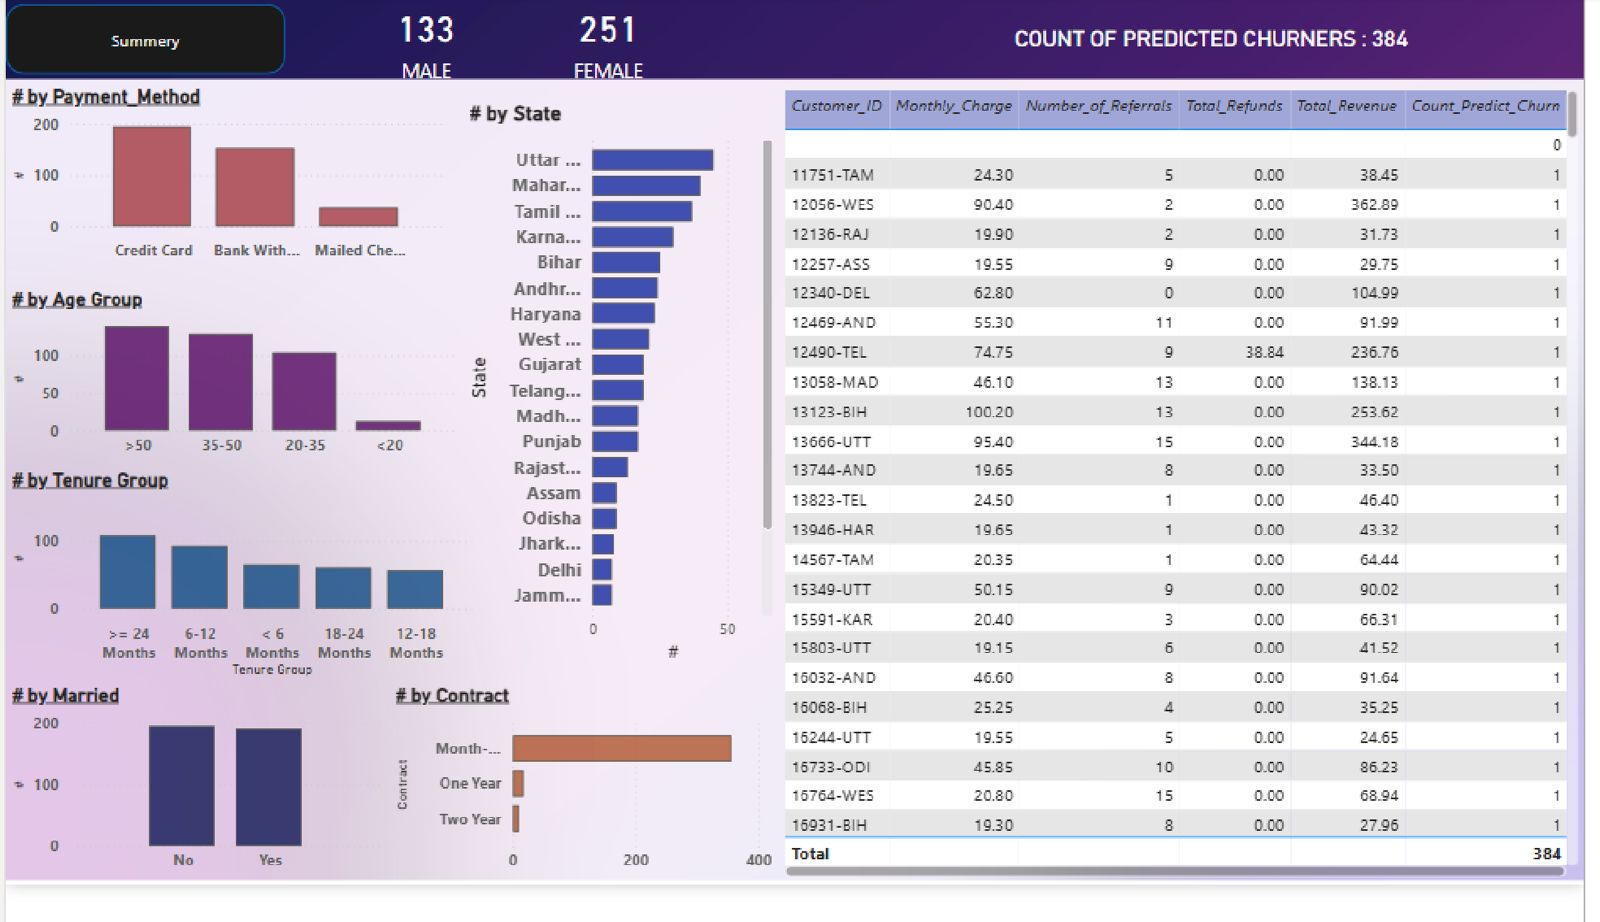

The page's visual inventory and layout, read from the dashboard file:
{"tool":"powerbi","page":{"name":"Prediction","canvas":[1280,720],"ordinal":2},"visuals":[{"type":"tableEx","fields":{"Values":["vw_JoinData (1).Customer_ID","vw_JoinData (1).Monthly_Charge","vw_JoinData (1).Number_of_Referrals","vw_JoinData (1).Total_Refunds","vw_JoinData (1).Total_Revenue","tbl_Measures.Count_Predict_Churn"]},"box":[626.2,72,653.8,647.7],"z":0},{"type":"card","fields":{"Values":["tbl_Measures.Title_Predicted_Churner"]},"box":[757.9,12.2,441,44.4],"z":1000},{"type":"card","fields":{"Values":["tbl_Measures.Count_Predict_Churn"]},"box":[425.6,0,125.6,72],"z":2000},{"type":"card","fields":{"Values":["tbl_Measures.Count_Predict_Churn"]},"box":[272.5,0,136.3,72],"z":2001},{"type":"clusteredColumnChart","fields":{"Category":["Mapping_AgeGrp.Age Group"],"Y":["CountNonNull(vw_JoinData (1).Customer_ID)"]},"box":[0,235.8,370.5,147],"z":2002},{"type":"clusteredColumnChart","fields":{"Category":["vw_JoinData (1).Married"],"Y":["CountNonNull(vw_JoinData (1).Customer_ID)"]},"box":[0,557.3,310.8,162.3],"z":2003},{"type":"clusteredColumnChart","fields":{"Y":["CountNonNull(vw_JoinData (1).Customer_ID)"],"Category":["Mapping_TenureGrp.Tenure Group "]},"box":[0,382.8,384.3,174.5],"z":2004},{"type":"clusteredColumnChart","fields":{"Y":["CountNonNull(vw_JoinData (1).Customer_ID)"],"Category":["vw_JoinData (1).Payment_Method"]},"box":[0,72,359.8,150],"z":2005},{"type":"clusteredBarChart","fields":{"Category":["vw_JoinData (1).Contract"],"Y":["CountNonNull(vw_JoinData (1).Customer_ID)"]},"box":[310.8,557.3,315.4,162.3],"z":2006},{"type":"clusteredBarChart","fields":{"Category":["vw_JoinData (1).State"],"Y":["CountNonNull(vw_JoinData (1).Customer_ID)"]},"box":[370.5,84.2,255.7,460.9],"z":2007},{"type":"shape","box":[0,6.1,226.6,56.7],"z":2008}]}

Visuals, with their boxes in screenshot pixels (x1, y1, x2, y2), scaled from the page's 1280x720 canvas onto the 1600x922 screenshot:
tableEx - vw_JoinData (1).Customer_ID x vw_JoinData (1).Monthly_Charge: crop(783, 92, 1599, 921)
card - tbl_Measures.Title_Predicted_Churner: crop(947, 16, 1499, 72)
card - tbl_Measures.Count_Predict_Churn: crop(532, 0, 689, 92)
card - tbl_Measures.Count_Predict_Churn: crop(341, 0, 511, 92)
clusteredColumnChart - Mapping_AgeGrp.Age Group x CountNonNull(vw_JoinData (1).Customer_ID): crop(0, 302, 463, 490)
clusteredColumnChart - vw_JoinData (1).Married x CountNonNull(vw_JoinData (1).Customer_ID): crop(0, 714, 388, 921)
clusteredColumnChart - CountNonNull(vw_JoinData (1).Customer_ID) x Mapping_TenureGrp.Tenure Group : crop(0, 490, 480, 714)
clusteredColumnChart - CountNonNull(vw_JoinData (1).Customer_ID) x vw_JoinData (1).Payment_Method: crop(0, 92, 450, 284)
clusteredBarChart - vw_JoinData (1).Contract x CountNonNull(vw_JoinData (1).Customer_ID): crop(388, 714, 783, 921)
clusteredBarChart - vw_JoinData (1).State x CountNonNull(vw_JoinData (1).Customer_ID): crop(463, 108, 783, 698)
shape: crop(0, 8, 283, 80)
